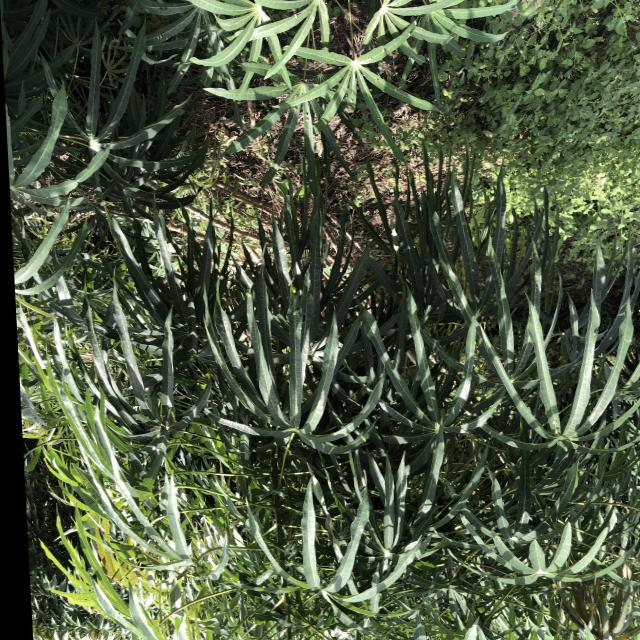Maleza: (516, 10, 640, 227)
Mosca: (400, 31, 419, 46), (380, 40, 392, 59), (408, 14, 420, 28)
